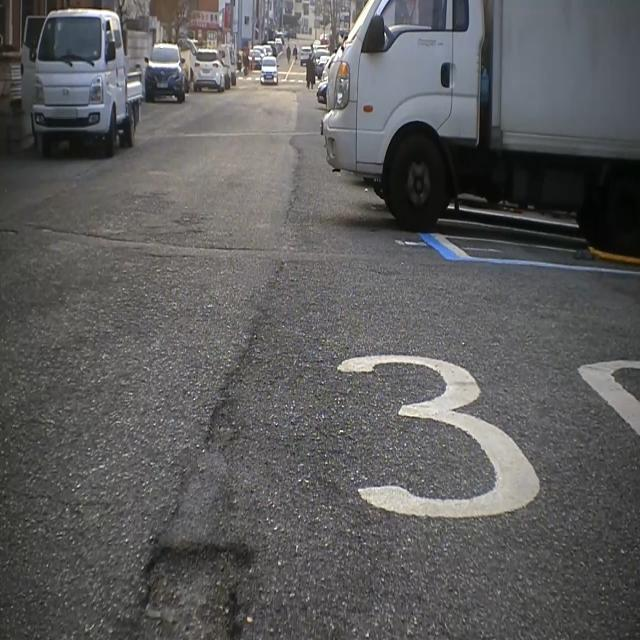Buraco: (124, 535, 264, 640)
